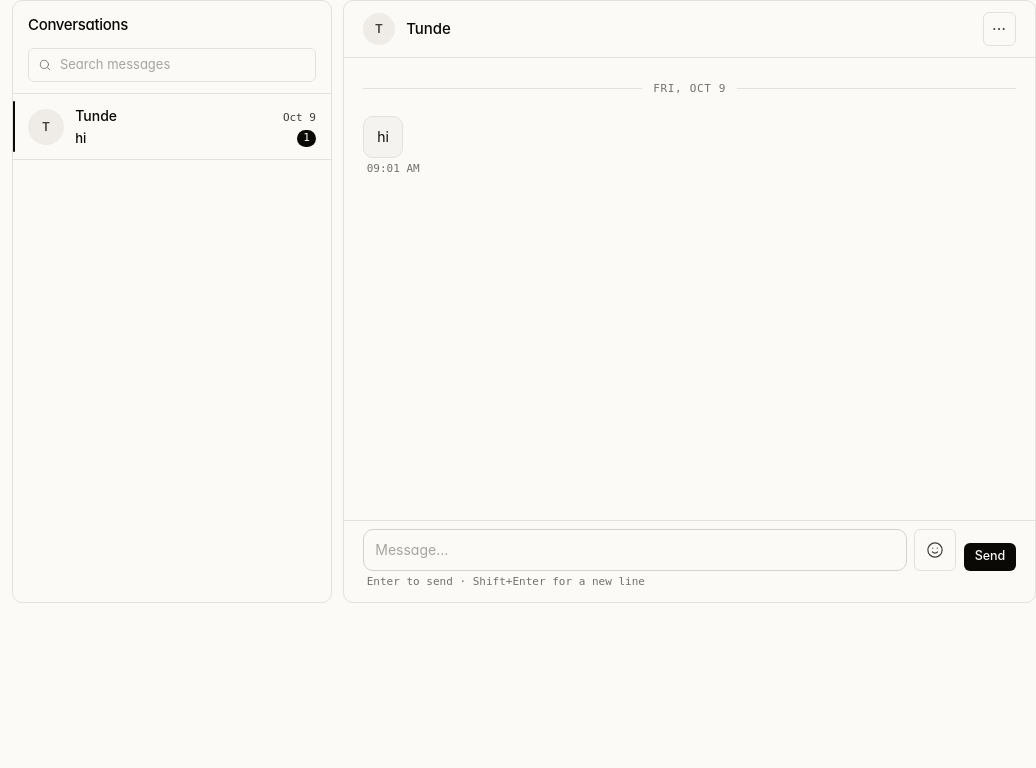
it: thread menu: mute and block (web W21) › mutes and unmutes for anyone who can read
Step 1. Click the button named "Conversation options" → (999, 29), box [982, 12, 1016, 46]
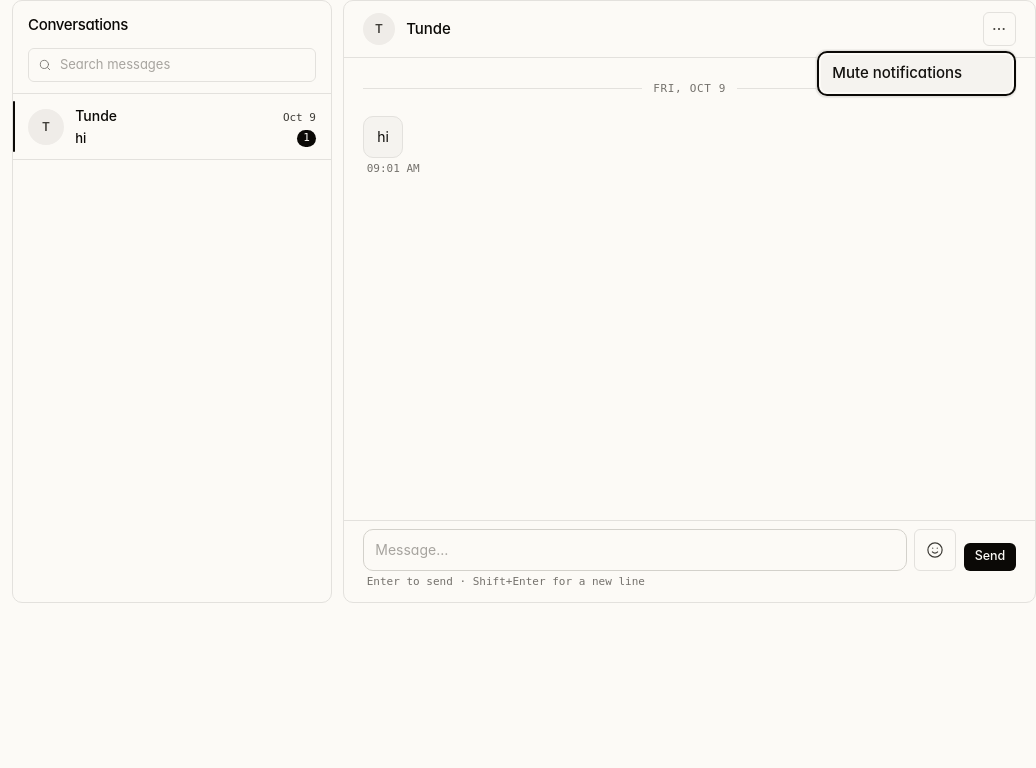
Step 2. Click the menu item "Mute notifications" → (916, 73), box [821, 55, 1012, 92]
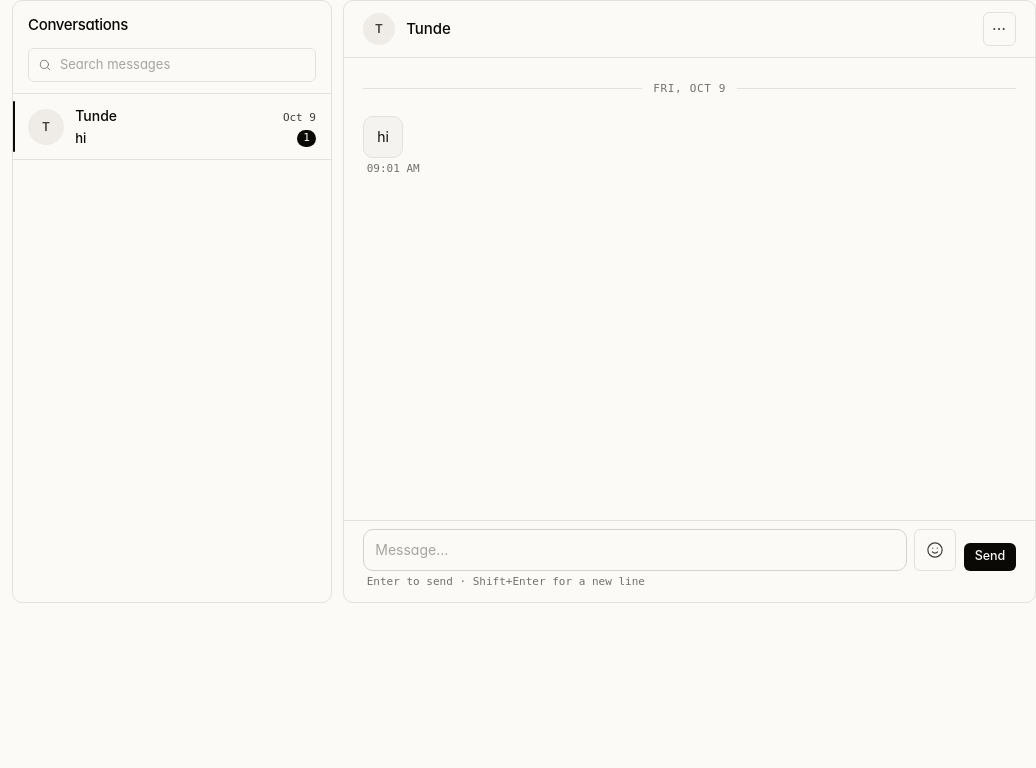
Step 3. Click the button named "Conversation options" → (999, 29), box [982, 12, 1016, 46]
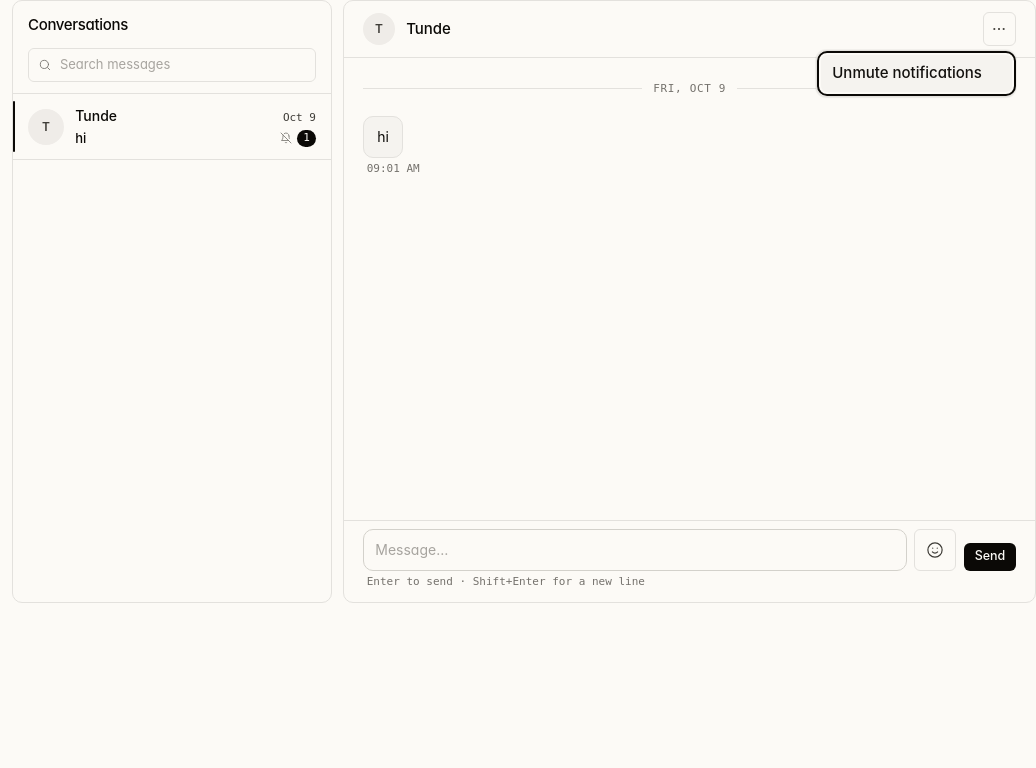
Now the menu item "Unmute notifications" is shown, box [821, 55, 1012, 92]
